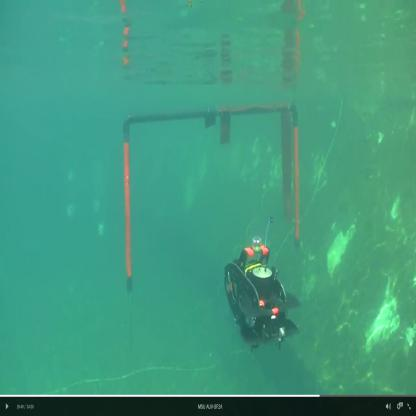gate: (121, 96, 309, 268)
